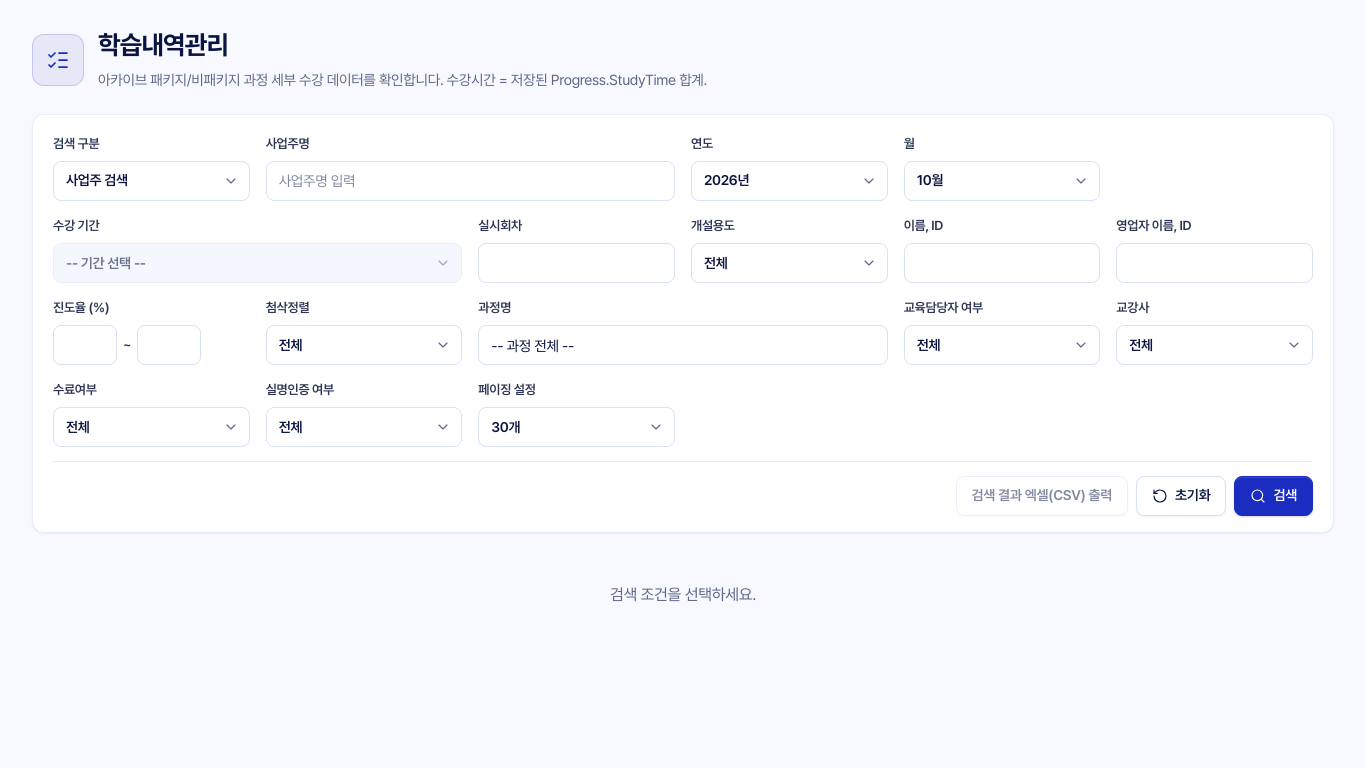
Scenario: 수강 관리 parity › 학습내역관리: 사업주 검색 needs a name; one 진도율 box alone is rejected
Click the button "검색" at (1274, 496), box [1234,476,1313,516]
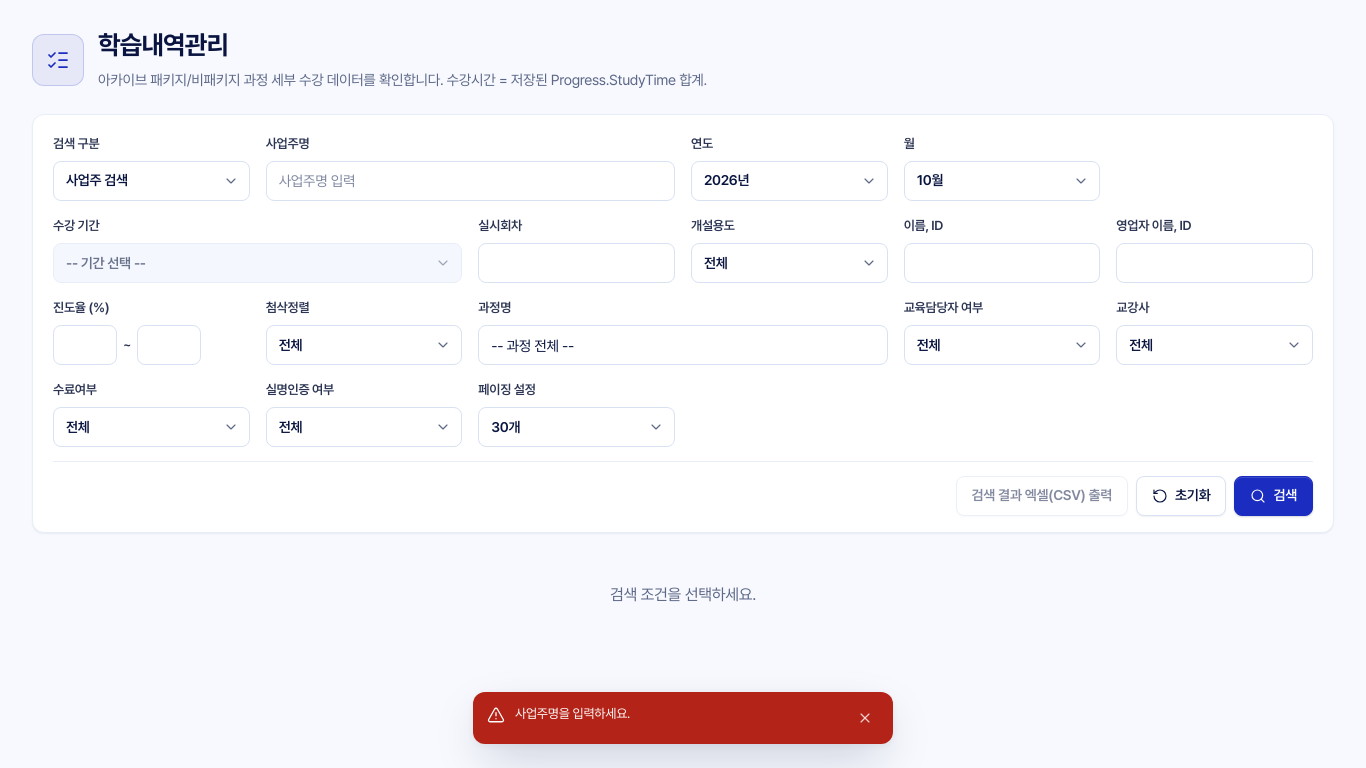
Now the text "사업주명을 입력하세요." is shown, box [515,706,630,721]
